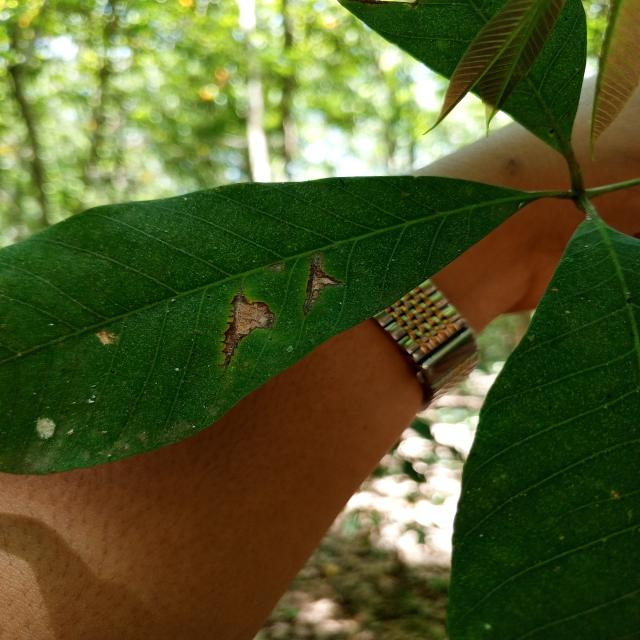Corynespora: (219, 290, 276, 372), (302, 253, 343, 316)
Leaf-Blight: (235, 302, 268, 332)
